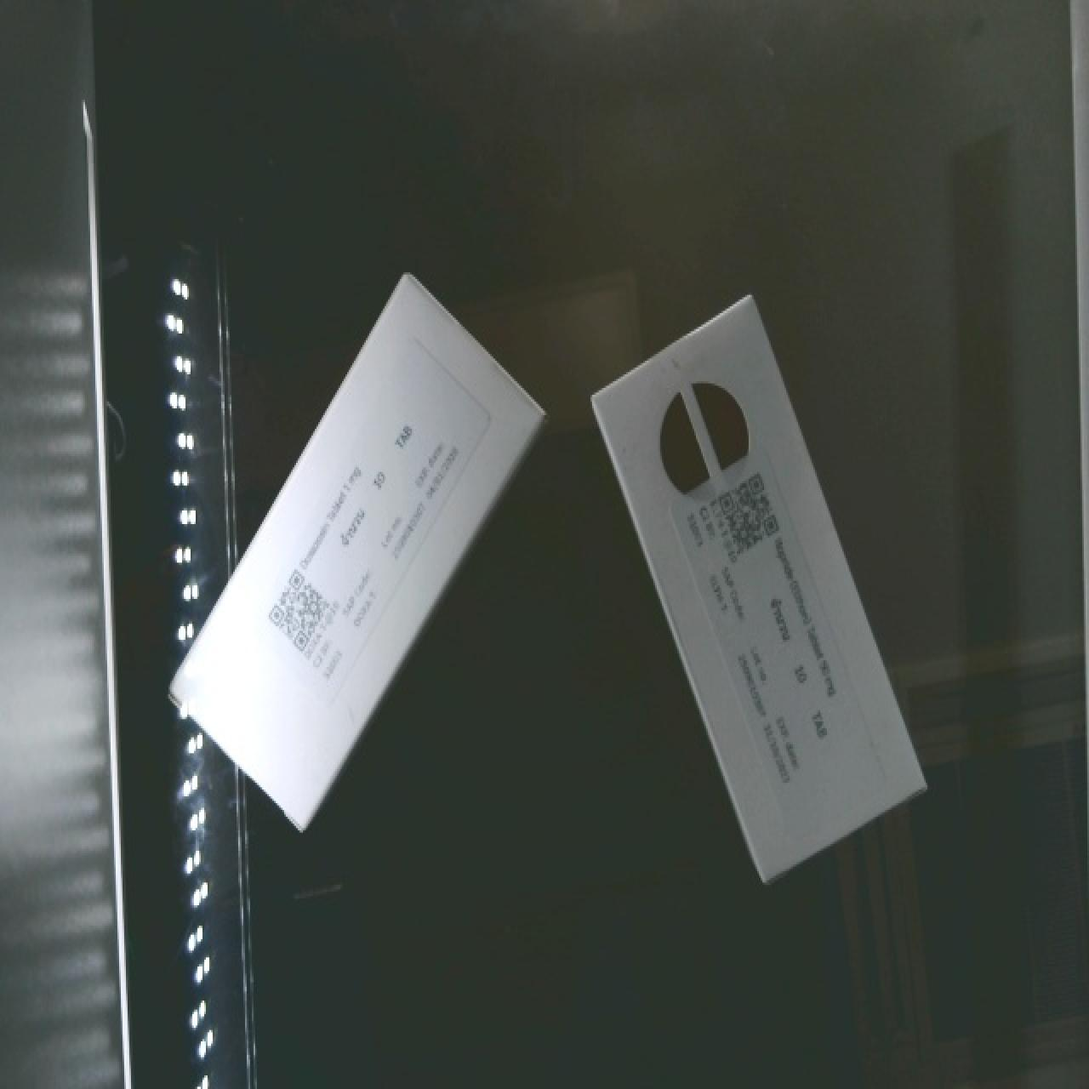qr_code: (237, 544, 356, 676), (693, 448, 803, 577)
